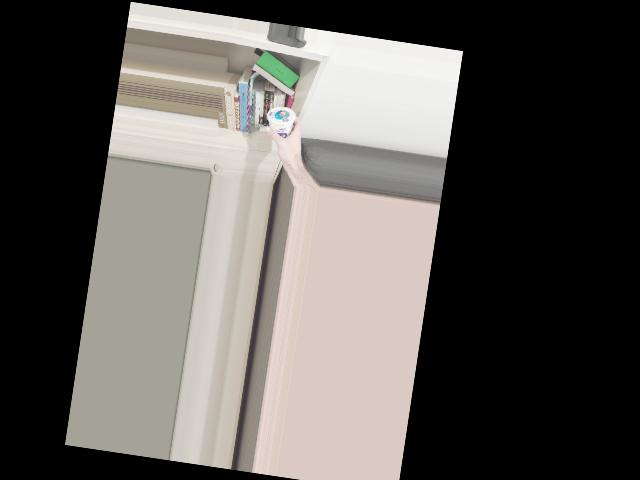cotage: (263, 102, 300, 143)
